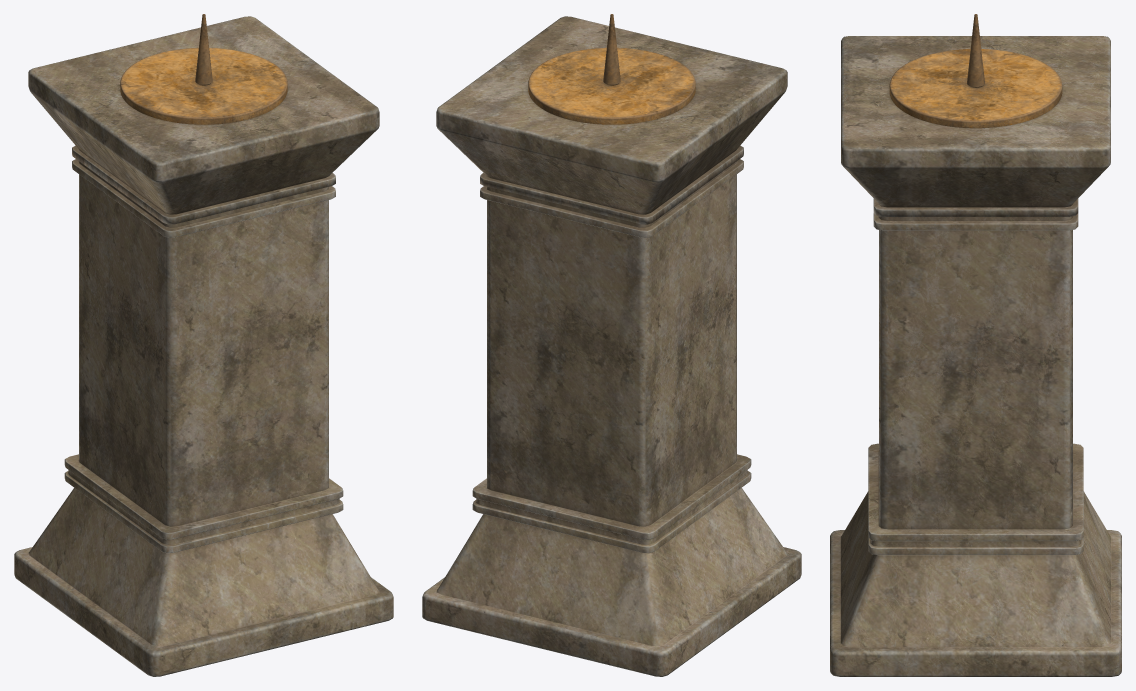
The model's file is sm_plinthprickett.gltf.
3 renders of one model, left to right at view 1: azimuth 30°, elevation 25°; view 2: azimuth 150°, elevation 25°; view 3: azimuth 270°, elevation 25°, orthographic. The views are drawn at different scales.
Visible parts, largest first — view 1: Mesh; view 2: Mesh; view 3: Mesh.
Boxes of the visible parts, box(x1,y1,x2,y2) form: Mesh: box(14, 14, 393, 676); Mesh: box(422, 14, 801, 676); Mesh: box(830, 14, 1121, 676).
Size of the model in its own units: 0.4918 by 1.12 by 0.4918.
1 material, 1 textured.
